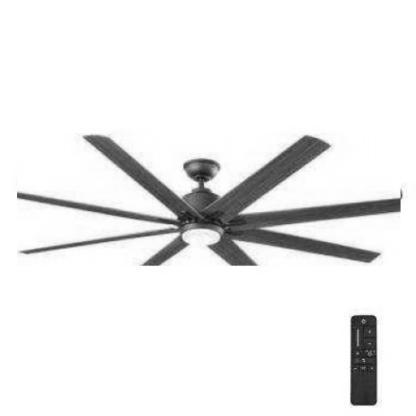ceiling-fan: (17, 134, 401, 266)
